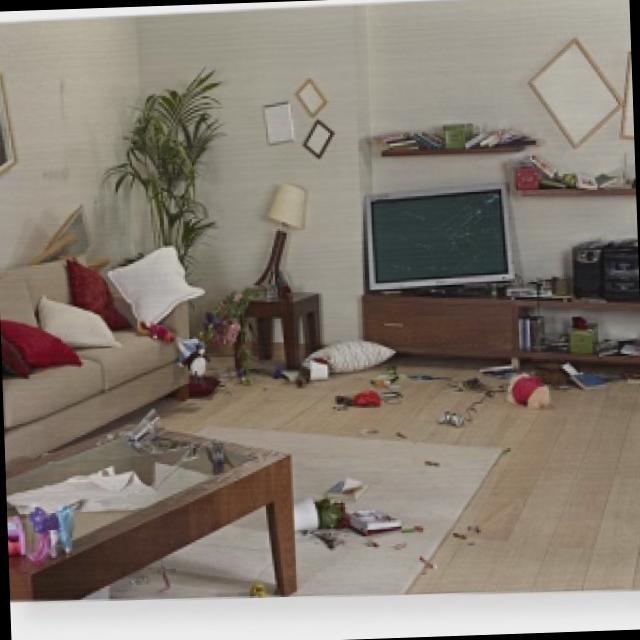mess: (309, 336, 640, 624), (358, 188, 640, 316), (368, 94, 636, 202), (1, 258, 216, 386), (5, 441, 216, 568), (250, 191, 315, 383), (496, 293, 640, 362)
